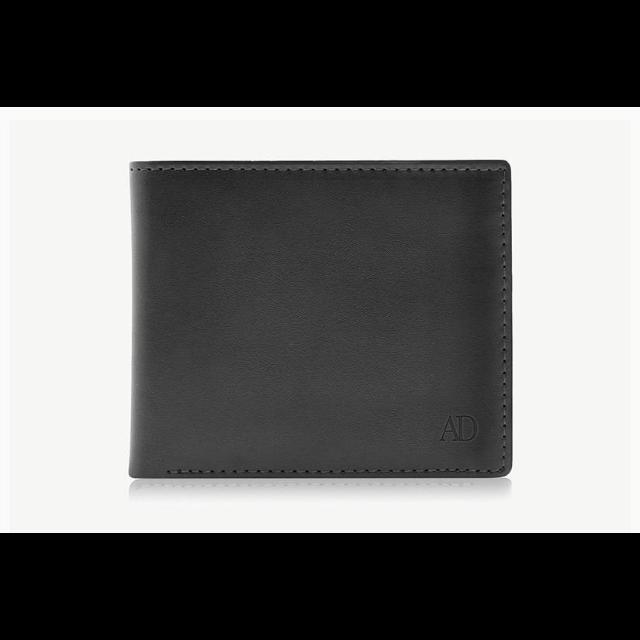Wallet: (118, 156, 516, 480)
